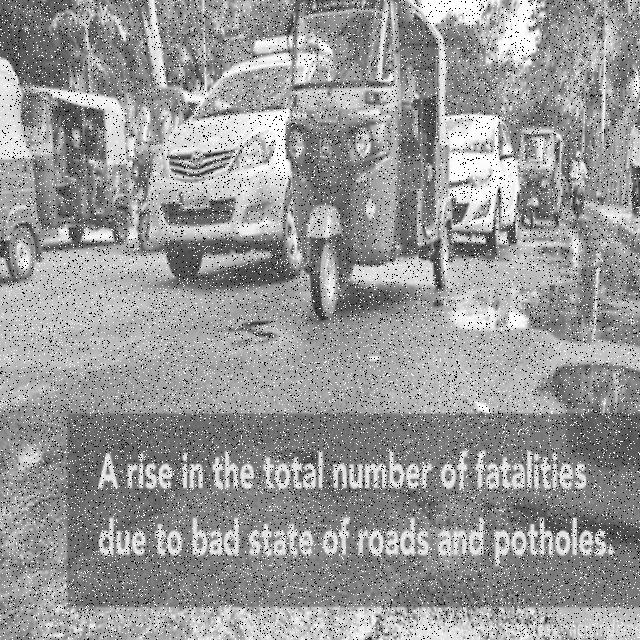pothole: (509, 510, 640, 640), (0, 442, 57, 483), (230, 318, 273, 350)
